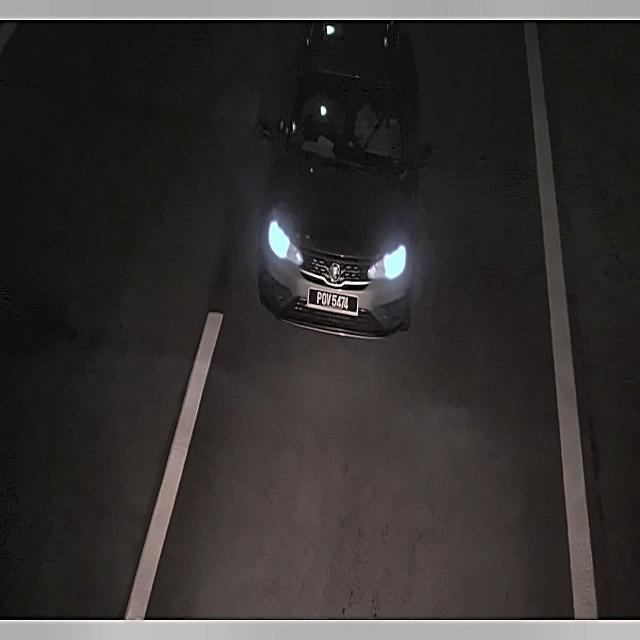car: (302, 286, 362, 318)
